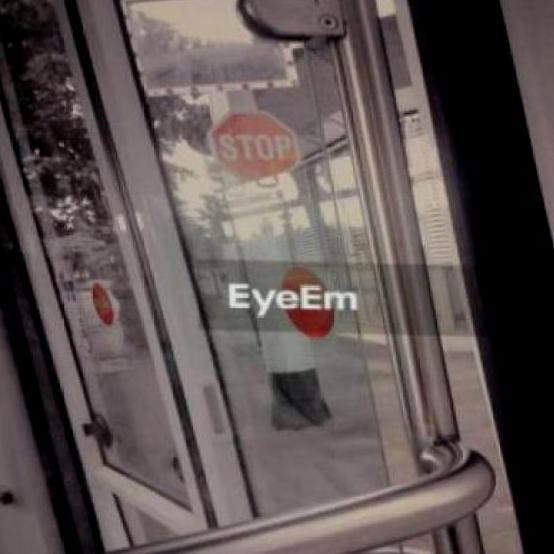stop_sign: (206, 101, 300, 184)
